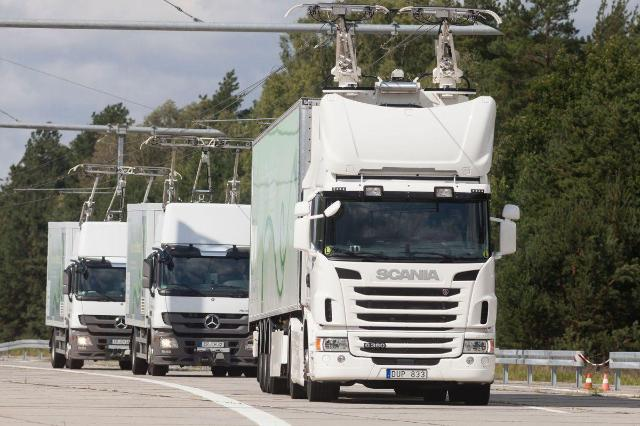truck: (251, 111, 522, 409), (126, 201, 258, 378), (41, 218, 135, 374)
